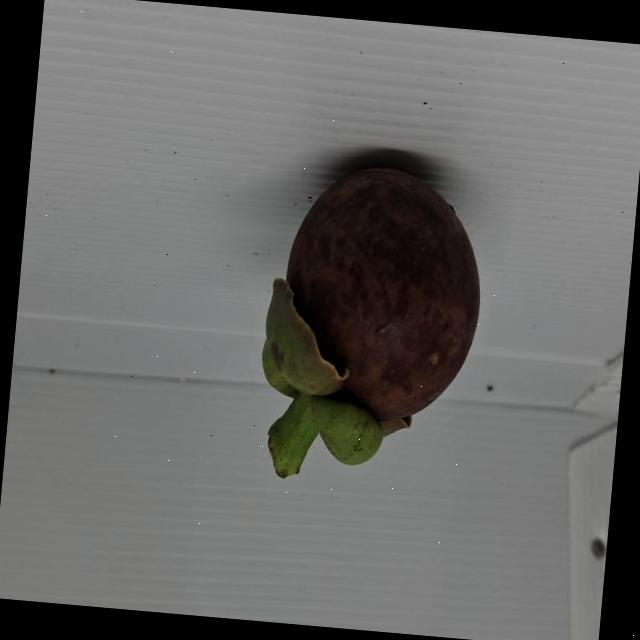mangosteen: (173, 114, 546, 572)
